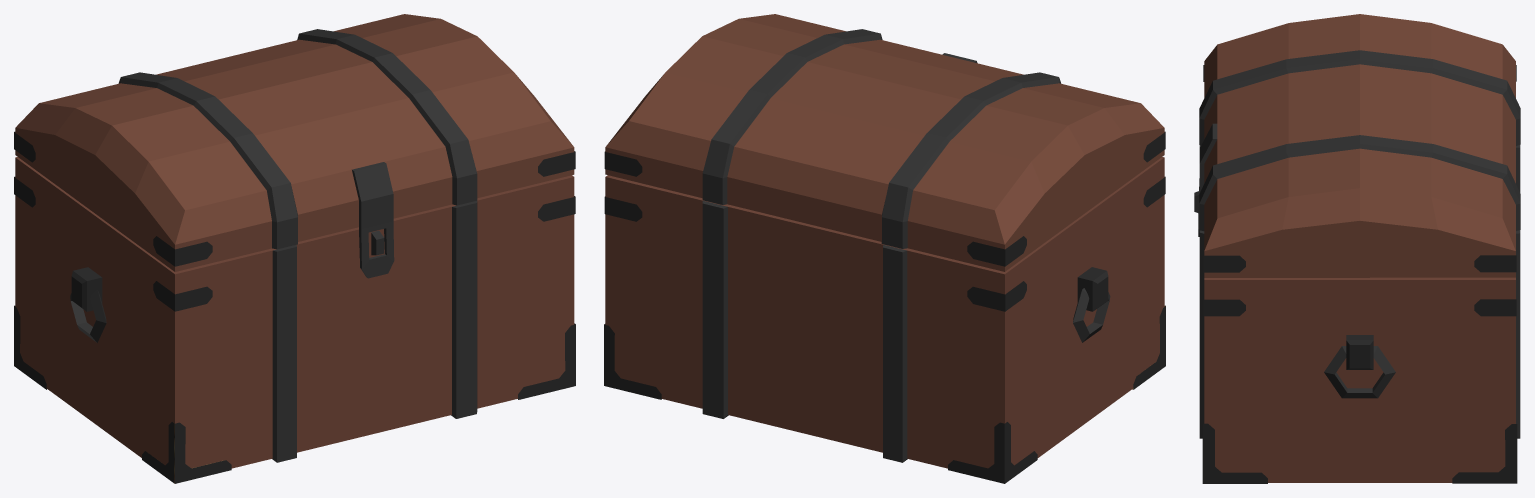
Rendered from chest_round_lid.fbx.
3 renders of one model, left to right at view 1: azimuth 30°, elevation 25°; view 2: azimuth 150°, elevation 25°; view 3: azimuth 270°, elevation 25°, orthographic. The views are drawn at different scales.
Visible parts, largest first — view 1: chest, chest_lid; view 2: chest, chest_lid; view 3: chest_lid, chest.
Boxes of the visible parts, x1,y1,x2,y2 form: chest: (14, 157, 575, 483); chest_lid: (14, 14, 575, 278); chest: (604, 157, 1165, 483); chest_lid: (604, 14, 1165, 271); chest_lid: (1198, 14, 1520, 277); chest: (1194, 145, 1520, 483).
Bounding box in the file's own units: 78.92 × 52.63 × 53.02.
